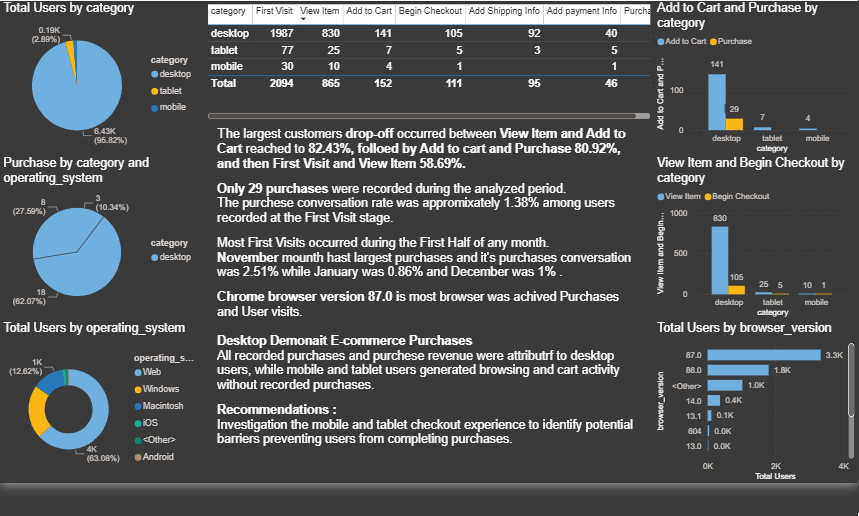

What the dashboard file says about the page in this screenshot:
{"tool":"powerbi","page":{"name":"User Behavior","canvas":[1280,720],"ordinal":1},"visuals":[{"type":"barChart","fields":{"Category":["event_timestamp.browser_version"],"Y":["DAXs.Total Users"]},"box":[975.1,476.8,304.1,243.3],"z":0},{"type":"pieChart","fields":{"Y":["DAXs.Purchase"],"Category":["event_timestamp.category"],"Series":["event_timestamp.operating_system"]},"box":[0,231.5,304.1,245.3],"z":1000},{"type":"tableEx","fields":{"Values":["event_timestamp.category","DAXs.First Visit","DAXs.View Item","DAXs.Add to Cart","DAXs.Begin Checkout","DAXs.Add Shipping Info","DAXs.Add payment Info","DAXs.Purchase"]},"box":[304.1,0,671.5,180.9],"z":2000},{"type":"lineClusteredColumnComboChart","fields":{"Category":["event_timestamp.category"],"Y":["DAXs.Add to Cart","DAXs.Purchase"]},"box":[975.1,0,304.1,231.5],"z":3000},{"type":"donutChart","fields":{"Y":["DAXs.Total Users"],"Category":["event_timestamp.operating_system"]},"box":[0,476.8,304.1,243.3],"z":4000},{"type":"pieChart","fields":{"Category":["event_timestamp.category"],"Y":["DAXs.Total Users"]},"box":[0,0,304.1,231.5],"z":5000},{"type":"clusteredColumnChart","fields":{"Y":["DAXs.View Item","DAXs.Begin Checkout"],"Category":["event_timestamp.category"]},"box":[975.1,231.5,300.2,245.3],"z":6000},{"type":"textbox","box":[319.4,181.2,642.6,343.7],"z":7000},{"type":"textbox","box":[319.4,493.2,642.6,226],"z":8000}]}

Visuals, with their boxes on the page's 1280x720 design canvas (x1, y1, x2, y2). These are canvas units, not pixel positions in the 859x516 screenshot, which may show the page scaled, cropped or inside an application window:
barChart - event_timestamp.browser_version x DAXs.Total Users: <bbox>975, 477, 1279, 720</bbox>
pieChart - DAXs.Purchase x event_timestamp.category: <bbox>0, 232, 304, 477</bbox>
tableEx - event_timestamp.category x DAXs.First Visit: <bbox>304, 0, 976, 181</bbox>
lineClusteredColumnComboChart - event_timestamp.category x DAXs.Add to Cart: <bbox>975, 0, 1279, 232</bbox>
donutChart - DAXs.Total Users x event_timestamp.operating_system: <bbox>0, 477, 304, 720</bbox>
pieChart - event_timestamp.category x DAXs.Total Users: <bbox>0, 0, 304, 232</bbox>
clusteredColumnChart - DAXs.View Item x DAXs.Begin Checkout: <bbox>975, 232, 1275, 477</bbox>
textbox: <bbox>319, 181, 962, 525</bbox>
textbox: <bbox>319, 493, 962, 719</bbox>
